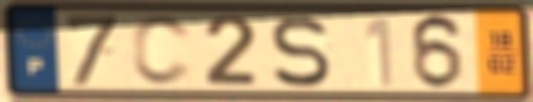1: (364, 16, 395, 88)
2: (201, 13, 262, 89)
6: (408, 11, 471, 94)
7: (63, 13, 121, 88)
C: (130, 12, 196, 89)
S: (269, 13, 333, 90)
